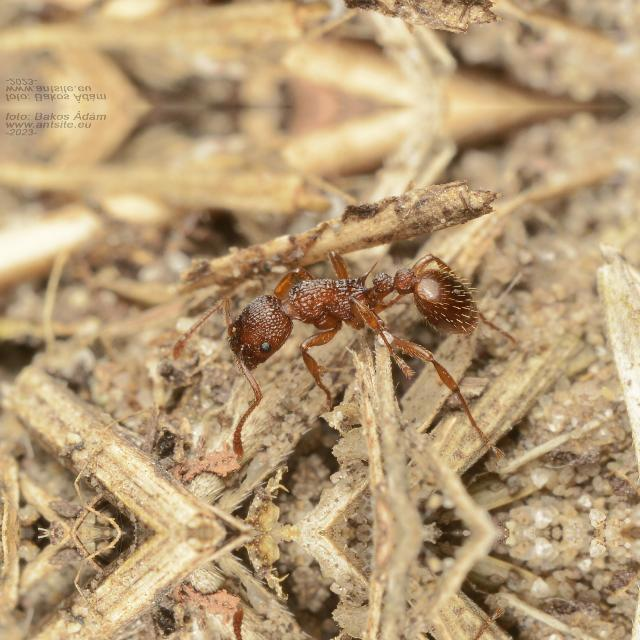Myrmica: (196, 232, 492, 376)
